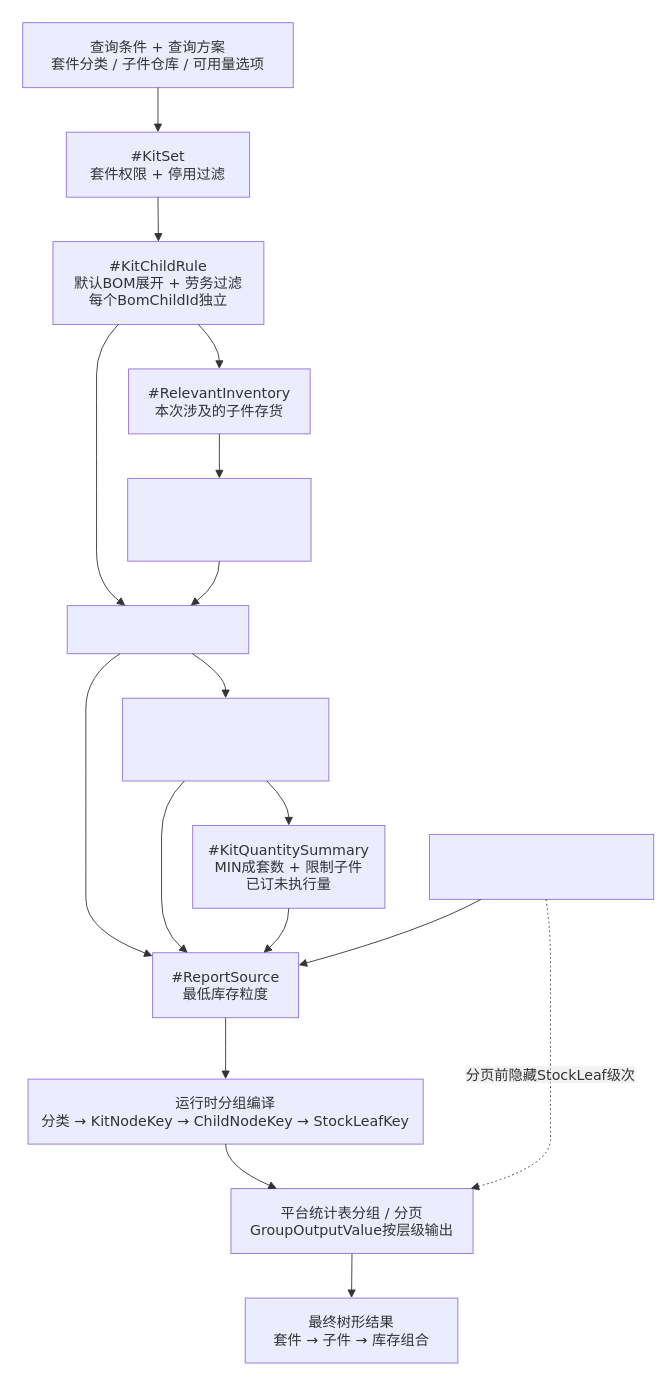
Some shapes in this 669 by 1379 pixel diagram are drawn without their labels. The centre of each missing label's shape, as x and y in pixels:
#ChildQuantitySummary 现存量/可用量汇总 定额折算成套数: point (225, 739)
#MatchedChildStock: point (157, 629)
#StockCandidate 一次扫描现存量视图 库存权限 + 公共条件: point (219, 519)
无库存普通子件 内部占位 HasStockDetail=0: point (541, 866)
